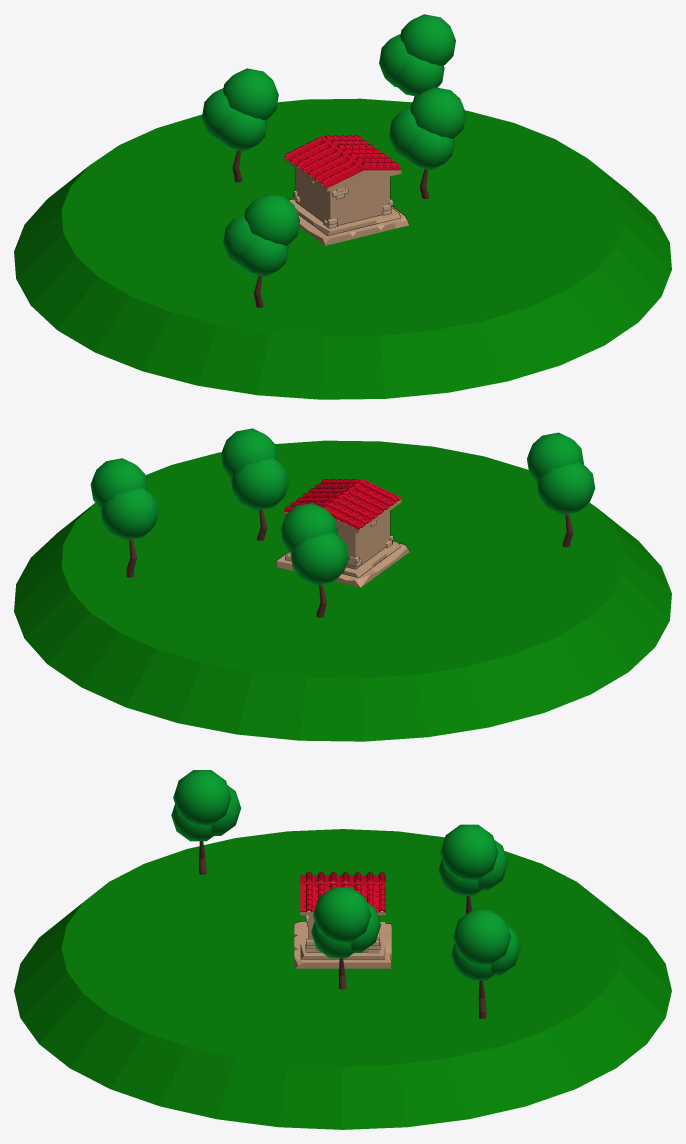
Rendered from house.gltf.
3 views of the same model, one above another, from view 1: azimuth 30°, elevation 25°; view 2: azimuth 150°, elevation 25°; view 3: azimuth 270°, elevation 25° (orthographic).
Visible parts, largest first — view 1: Circle, Plane, Icosphere, Icosphere.001, Icosphere.003, Icosphere.002, Cylinder, Plane.001; view 2: Circle, Icosphere.001, Icosphere.002, Icosphere.003, Icosphere, Plane, Cylinder; view 3: Circle, Icosphere.001, Icosphere.002, Icosphere, Icosphere.003, Plane, Cylinder.
Boxes of the visible parts, x1,y1,x2,y2 form: Circle: (14,98,671,399); Plane: (288,169,409,245); Icosphere: (389,87,465,170); Icosphere.001: (202,68,278,151); Icosphere.003: (223,194,299,276); Icosphere.002: (379,14,455,96); Cylinder: (284,135,401,188); Plane.001: (284,157,401,191); Circle: (14,440,671,741); Icosphere.001: (280,503,348,585); Icosphere.002: (90,458,158,540); Icosphere.003: (527,432,595,515); Icosphere: (221,428,288,510); Plane: (276,511,409,587); Cylinder: (284,479,401,529); Circle: (14,829,671,1129); Icosphere.001: (438,824,507,895); Icosphere.002: (451,909,520,980); Icosphere: (311,887,380,958); Icosphere.003: (171,770,241,841); Plane: (294,915,391,968); Cylinder: (300,872,385,912).
Bounding box in the file's own units: 33.05 × 8.6 × 33.05.
